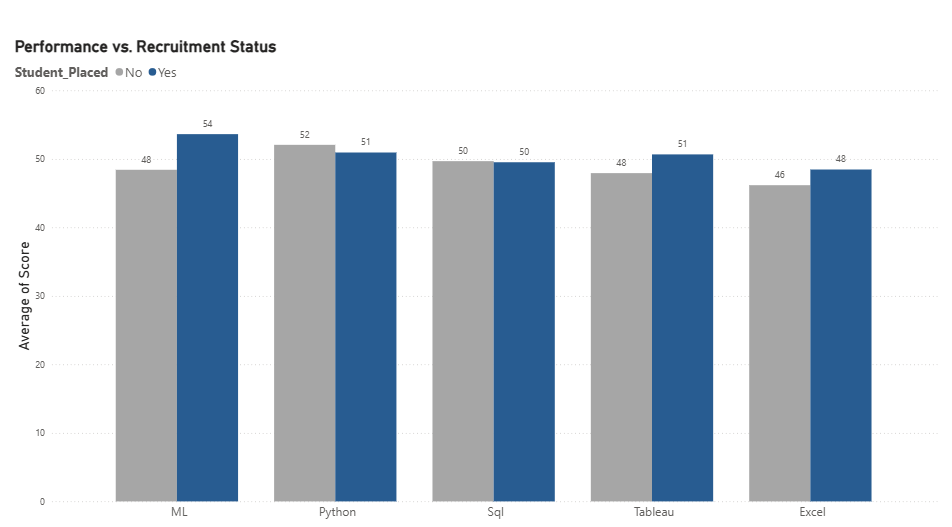

The page's visual inventory and layout, read from the dashboard file:
{"tool":"powerbi","page":{"name":"Page 1","canvas":[1280,720],"ordinal":0},"visuals":[{"type":"clusteredColumnChart","title":"Performance vs. Recruitment Status","fields":{"Category":["scores (long format).Subject"],"Y":["Avg(scores (long format).Score)"],"Series":["scores (long format).Student_Placed"]},"box":[25.2,67.7,1238.1,652.3],"z":0}]}

Visuals, with their boxes in screenshot pixels (x1, y1, x2, y2), scaled from the page's 1280x720 canvas onto the 952x527 screenshot:
"Performance vs. Recruitment Status" clusteredColumnChart: select_region(19, 50, 940, 526)
